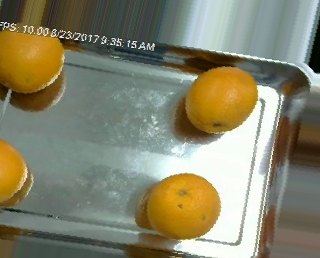Orange: (185, 66, 259, 134), (147, 173, 221, 239)
